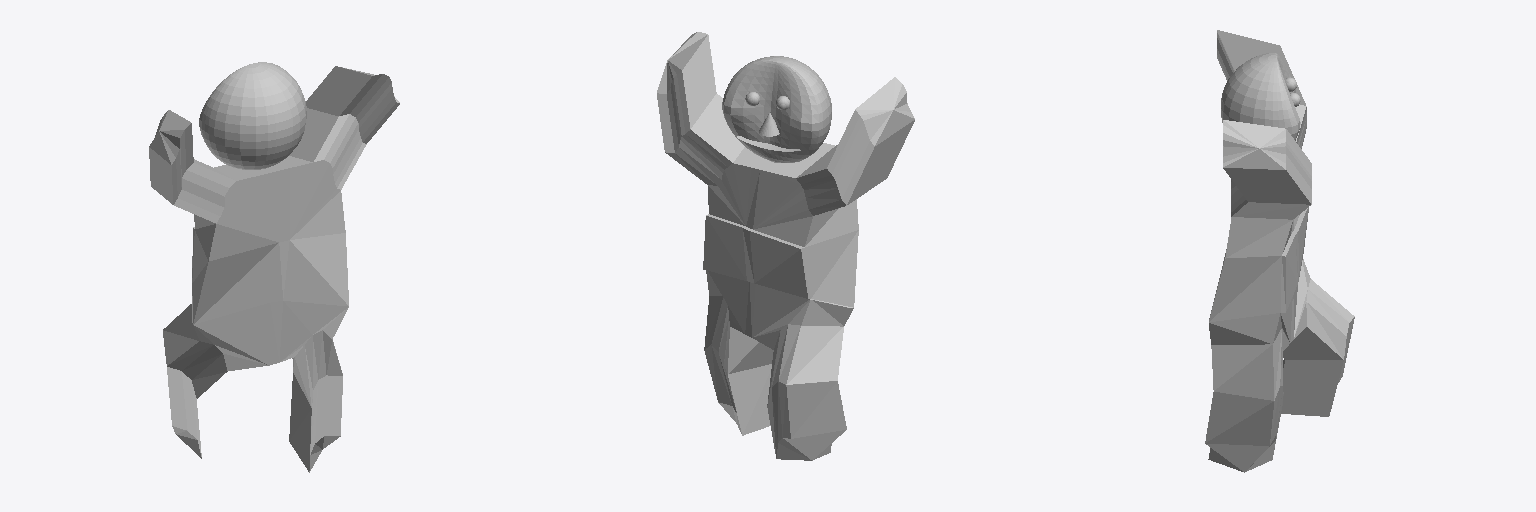
File: man_000025.obj
3 views of the same model, side by side, from view 1: azimuth 30°, elevation 25°; view 2: azimuth 150°, elevation 25°; view 3: azimuth 270°, elevation 25° (orthographic).
Parts seen in each view (by area): view 1: Cube; view 2: Cube; view 3: Cube.
Boxes of the visible parts, x1,y1,x2,y2 form: Cube: [149, 62, 399, 472]; Cube: [657, 32, 914, 460]; Cube: [1205, 30, 1354, 472].
Size of the model in its own units: 79.08 by 127 by 44.28.